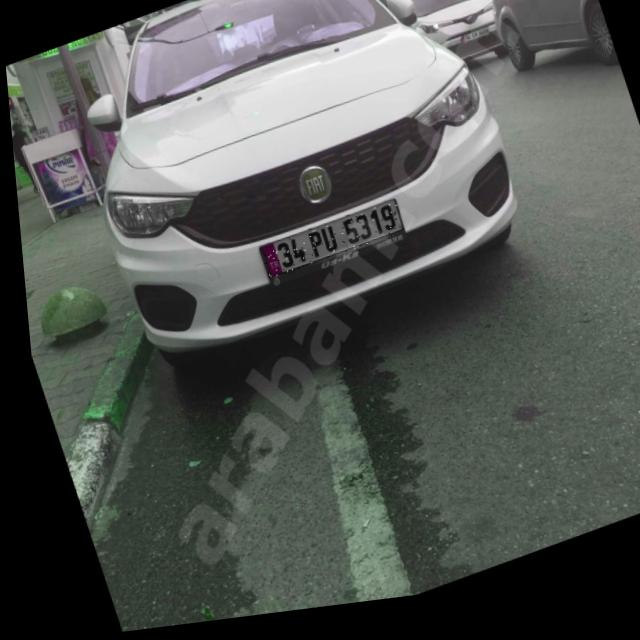license_plate: (252, 208, 402, 288)
